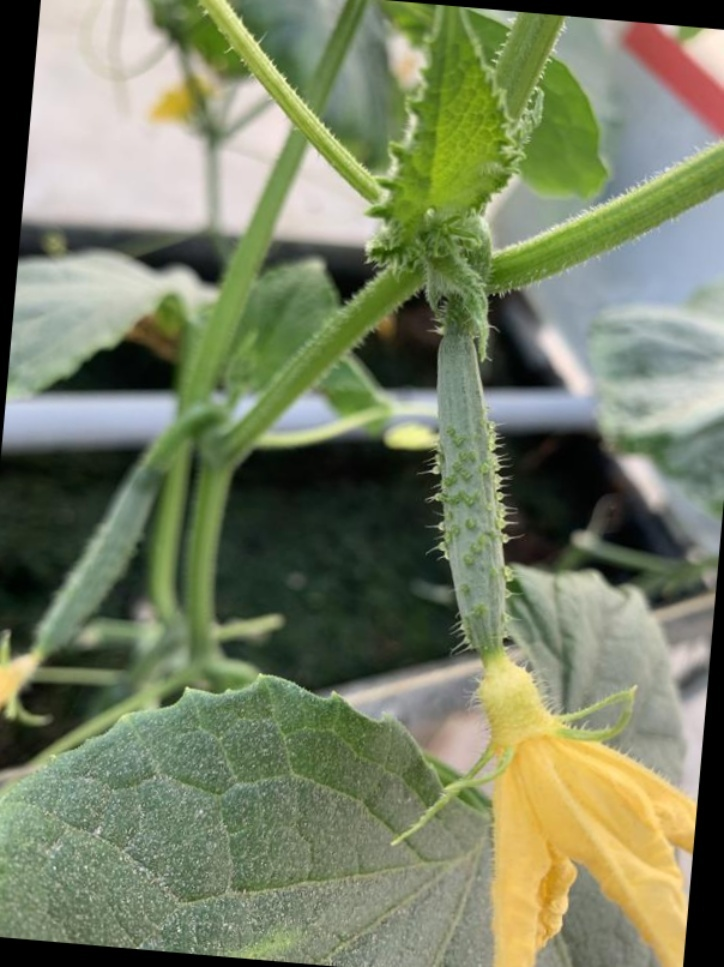bear: (428, 336, 718, 895)
